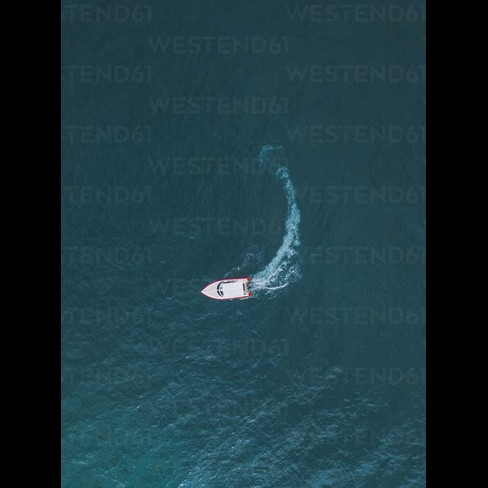boat: (198, 274, 261, 304)
